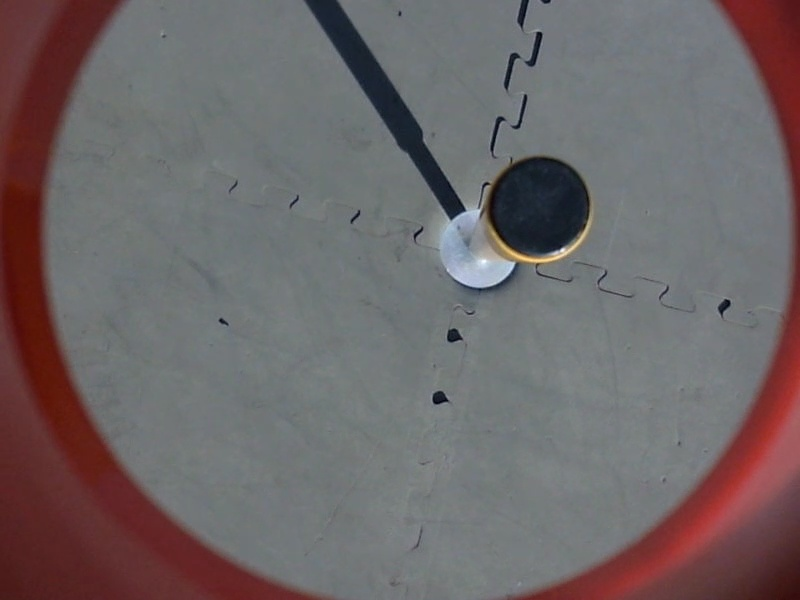tip: (483, 154, 596, 267)
